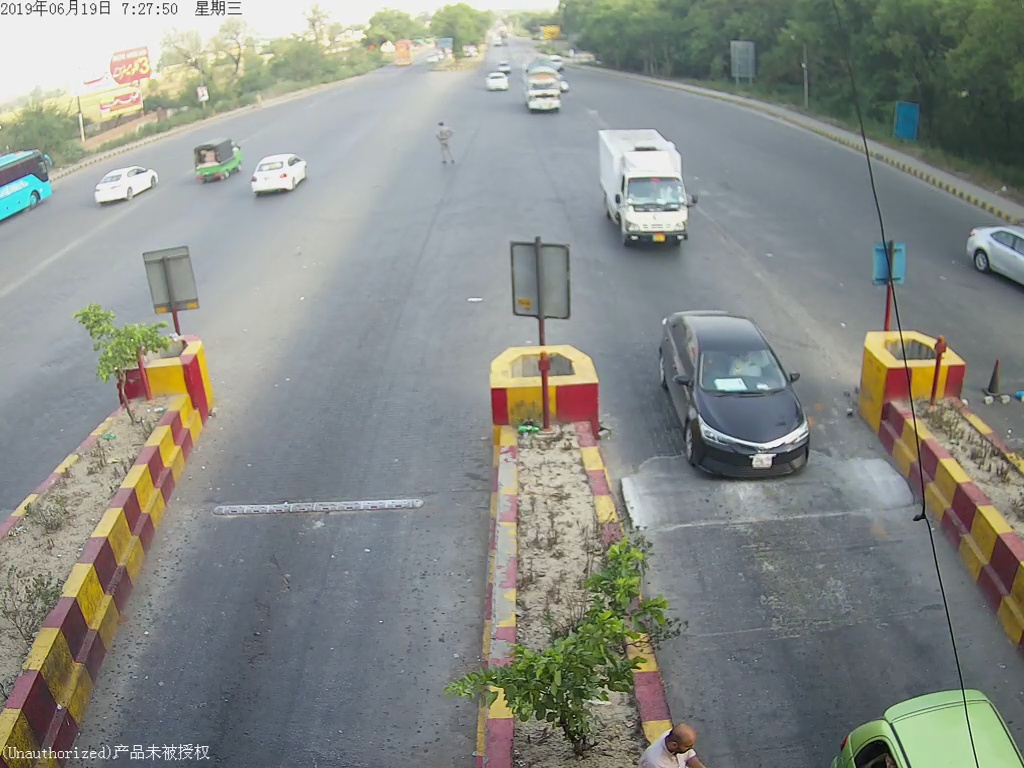Cat-1: (653, 303, 819, 498)
Cat-4: (596, 122, 700, 257)
